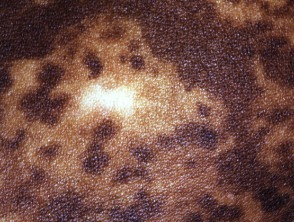Melasma: (3, 0, 294, 81), (136, 80, 294, 222), (2, 81, 81, 222), (75, 111, 140, 222)
